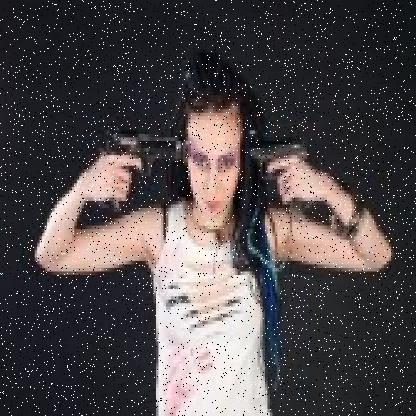pistol: (92, 127, 189, 219), (240, 134, 309, 208)
